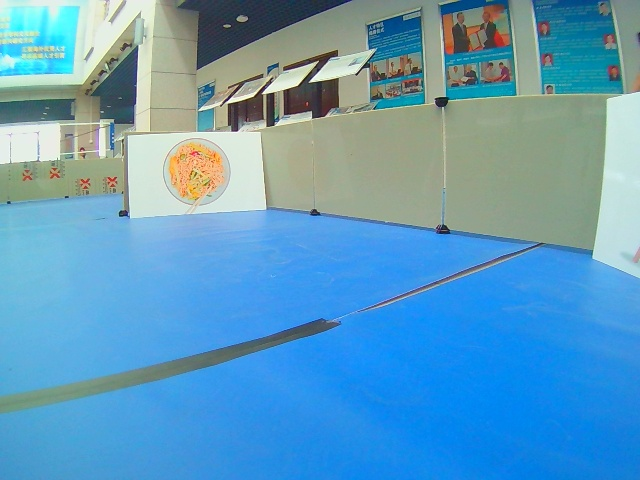food: (126, 131, 268, 219)
